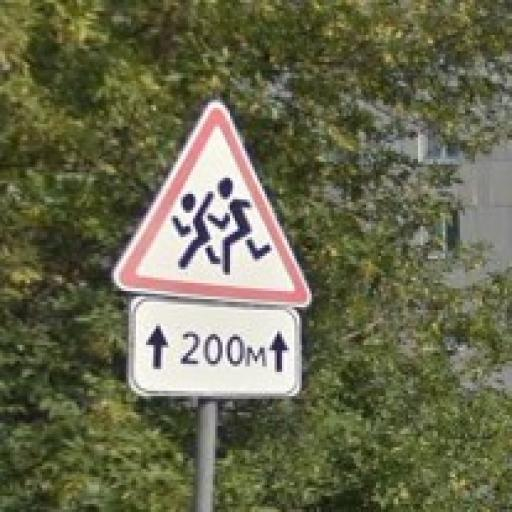traffic_sign: (112, 101, 315, 311)
